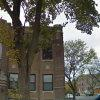Tree: (4, 0, 96, 53)
